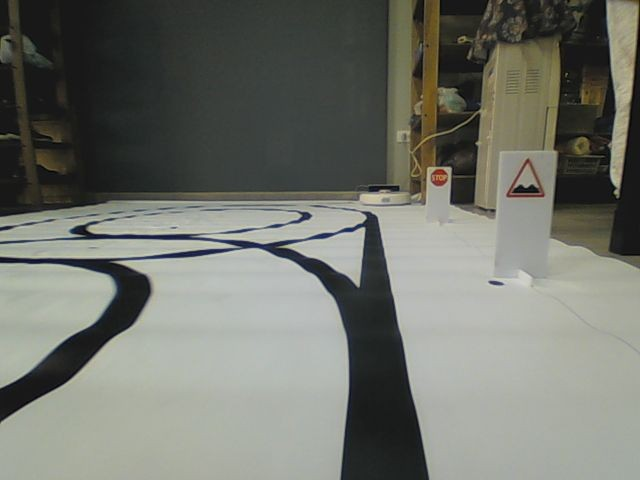Stop: (430, 169, 448, 186)
